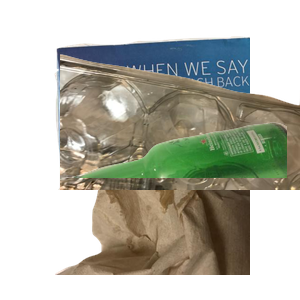glass: (60, 120, 300, 300)
paper: (52, 34, 292, 214)
plastic: (60, 52, 300, 232)
trash: (52, 120, 292, 300)
